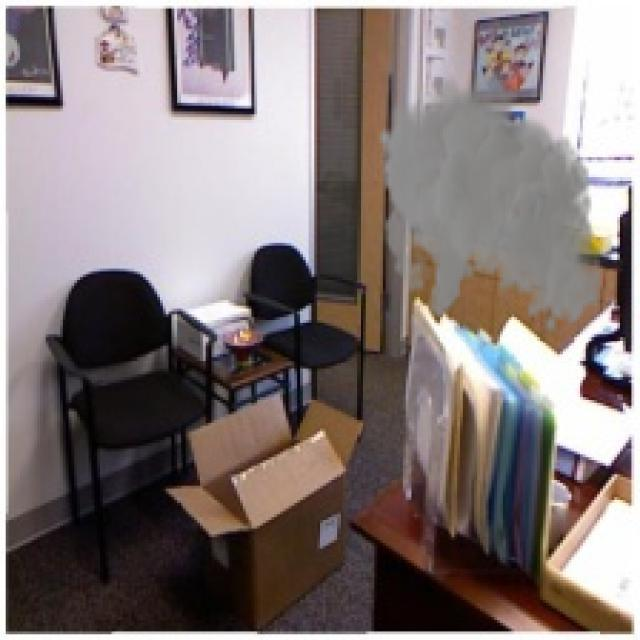Smoke: (377, 63, 603, 334)
